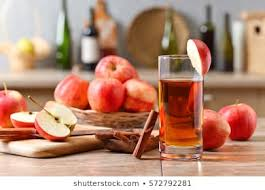apple: (32, 99, 82, 144), (88, 79, 130, 115), (202, 109, 234, 154), (221, 104, 256, 141), (94, 53, 135, 83), (54, 72, 90, 106), (127, 77, 158, 112), (1, 90, 29, 126)
damaged_apple: (182, 37, 216, 75)
